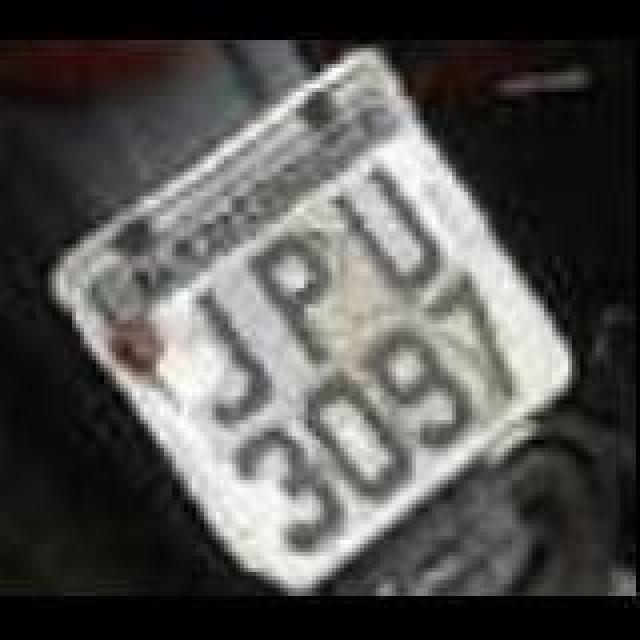3: (232, 422, 352, 554)
7: (422, 270, 522, 402)
9: (364, 330, 476, 454)
J: (174, 288, 274, 432)
O: (294, 366, 410, 498)
P: (246, 226, 346, 366)
U: (332, 166, 444, 298)
